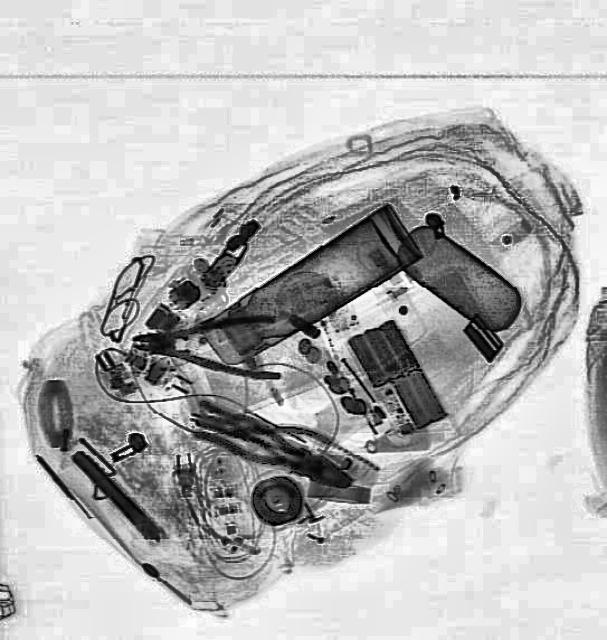Pliers: (183, 391, 359, 499), (128, 306, 284, 379)
